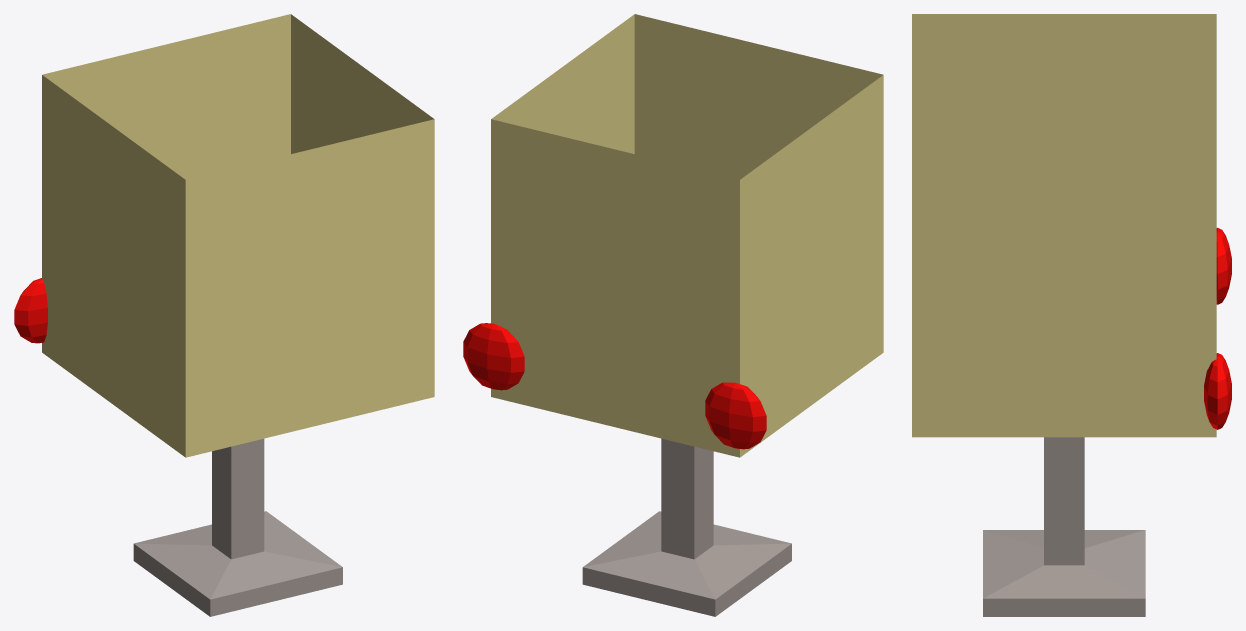
Rendered from LMAPS.fbx.
The picture shows the model from 3 angles, left to right: view 1: azimuth 30°, elevation 25°; view 2: azimuth 150°, elevation 25°; view 3: azimuth 270°, elevation 25°; orthographic projection. The views are drawn at different scales.
Parts seen in each view (by area): view 1: Sphere; view 2: Sphere; view 3: Sphere.
Boxes of the visible parts, x1,y1,x2,y2 form: Sphere: [14, 14, 434, 616]; Sphere: [463, 14, 883, 616]; Sphere: [912, 14, 1231, 616].
Bounding box in the file's own units: 143 × 215 × 124.
